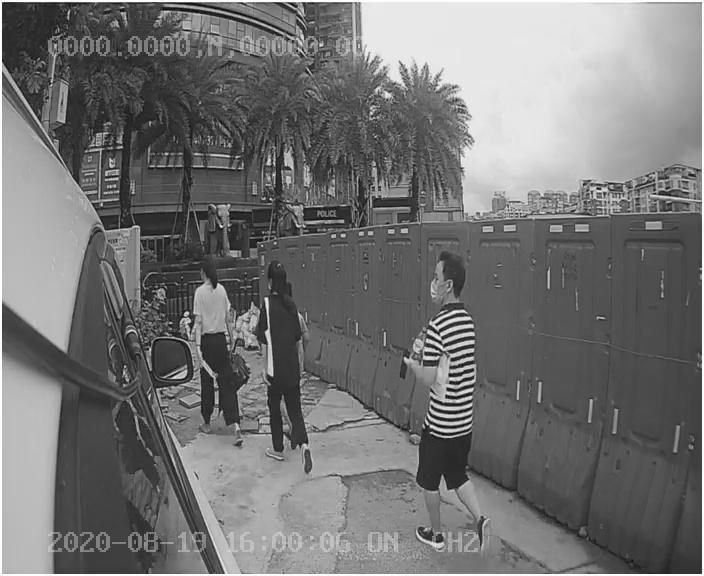person: (383, 247, 503, 523), (248, 261, 333, 472), (185, 259, 253, 453)
